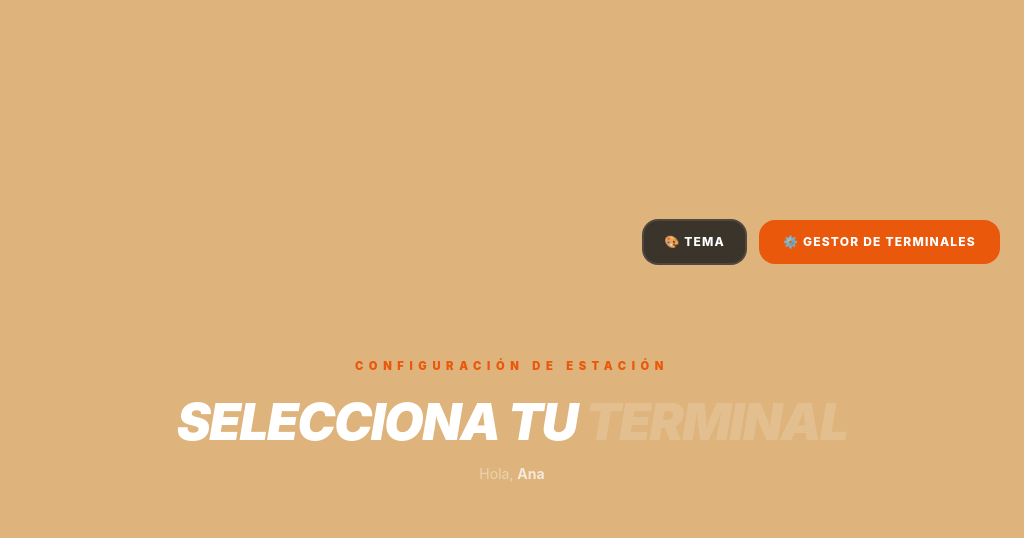
Test: F6.5.1 — Orden de terminales (UI) › criterio 1: el selector de orden solo aparece en modo gestor
(page scrolled)
Step 1. Click the button "⚙️ Gestor de Terminales" → {"x": 880, "y": 242}, box [759,220,1000,264]
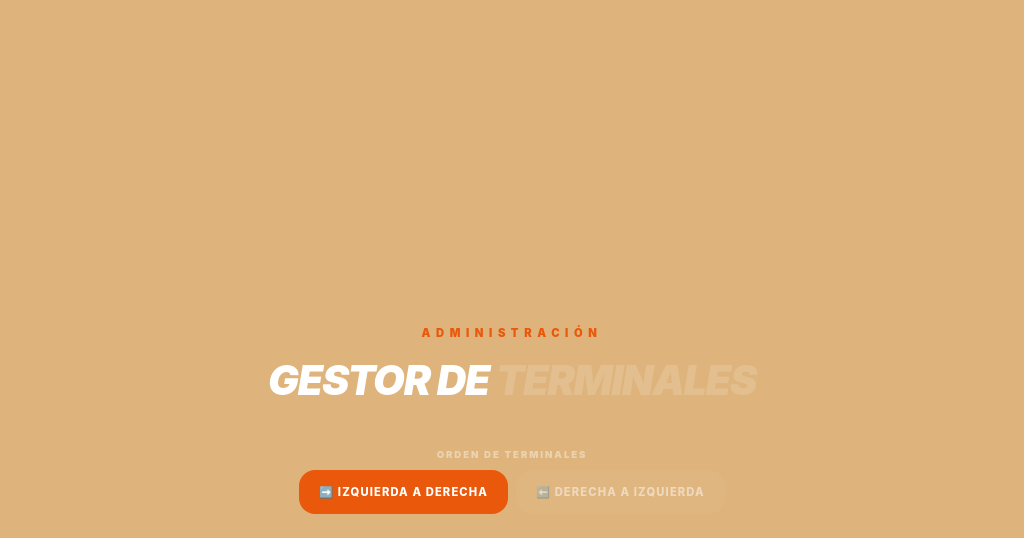
Expected: the button with test id "orden-izq-der" is shown, [299,470,508,514]
Expected: the button with test id "orden-der-izq" is shown, [516,470,725,514]
